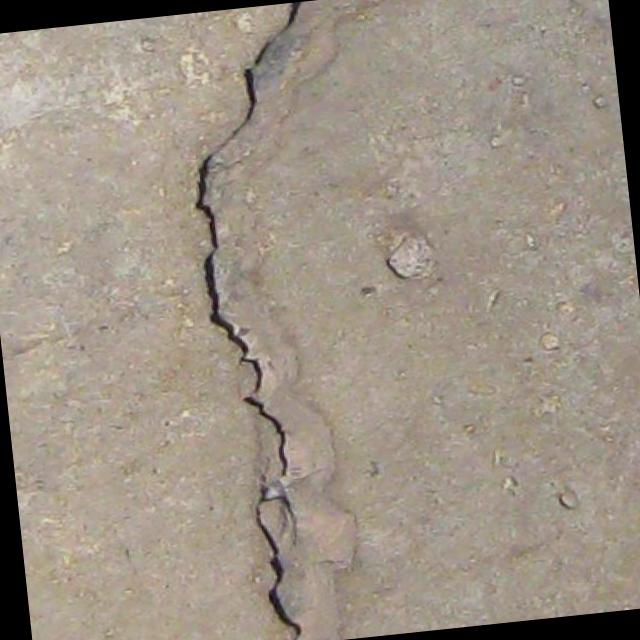crack: (172, 1, 370, 640)
